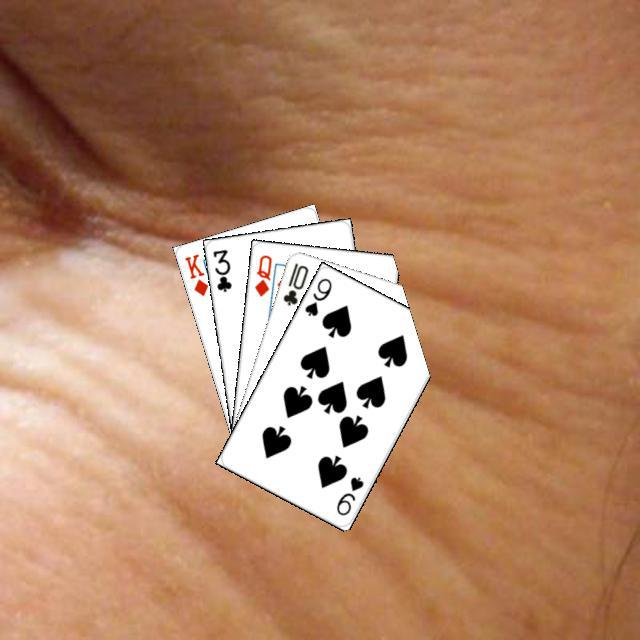10c: (278, 258, 310, 307)
3c: (208, 245, 233, 294)
9s: (331, 472, 365, 517), (300, 273, 333, 318)
Kd: (180, 249, 210, 298)
Qd: (250, 250, 273, 298)
